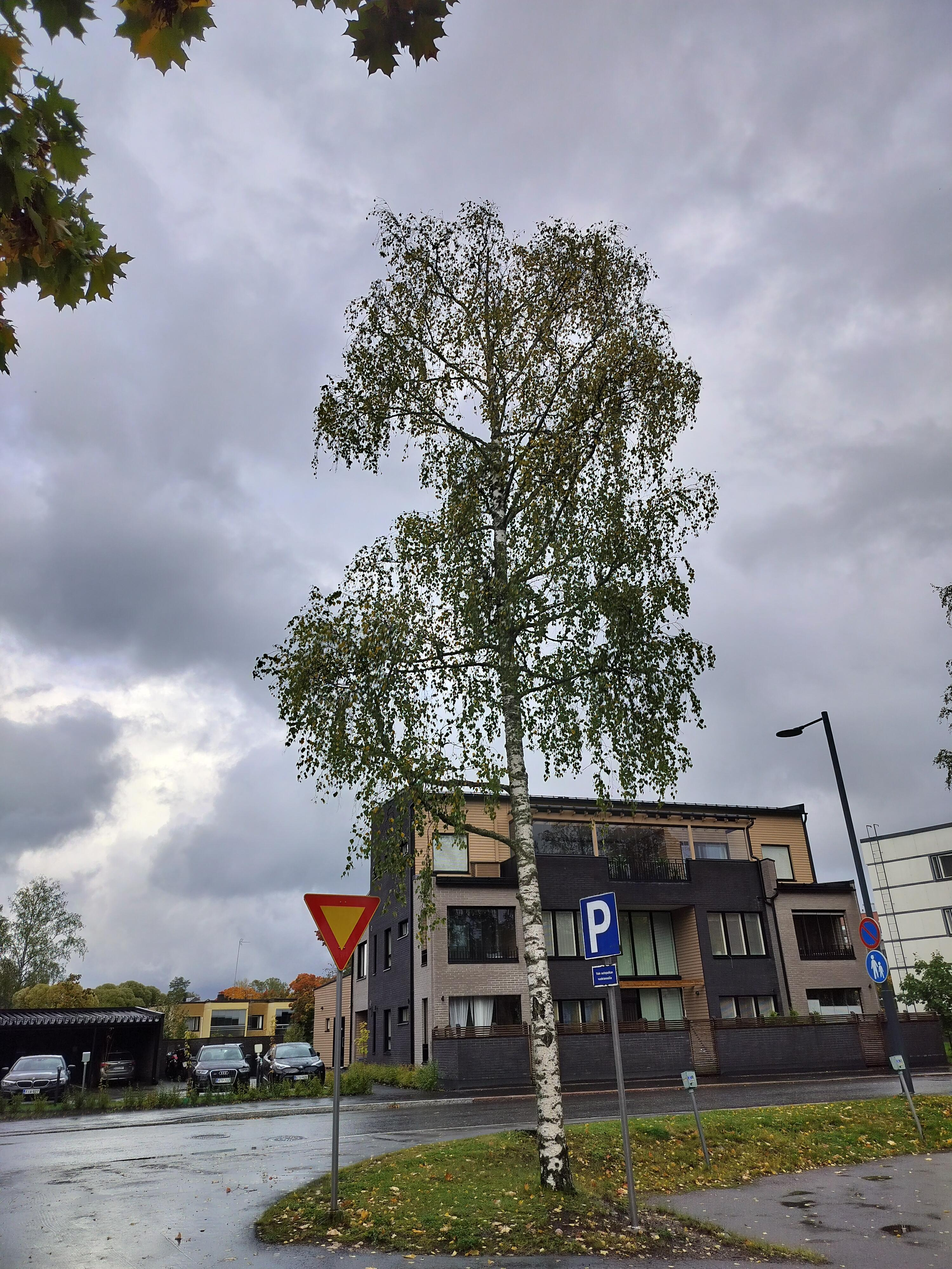Birch: (253, 194, 721, 1199)
